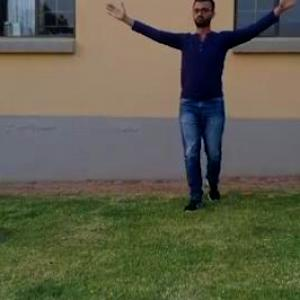takeoff: (113, 0, 295, 203)
